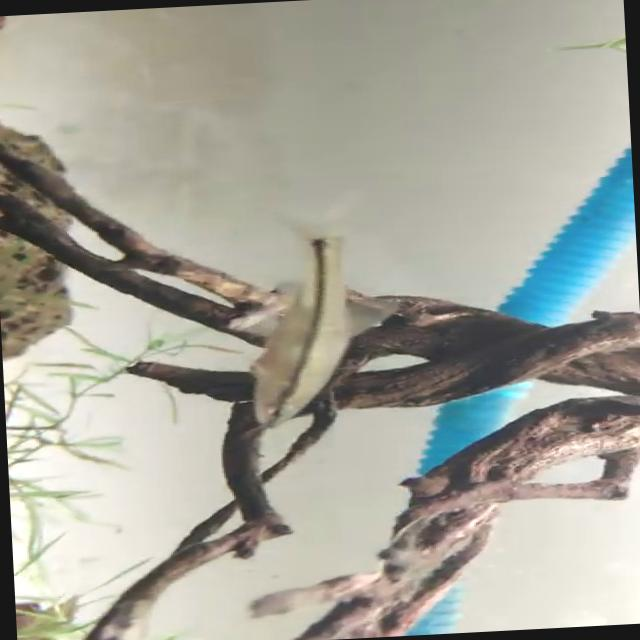Cakil Baligi: (234, 203, 416, 427)
